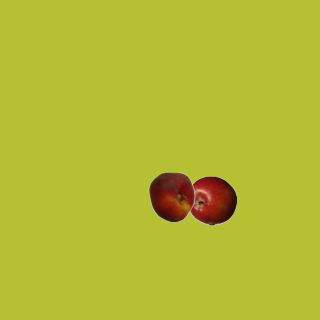Apple Braeburn: (186, 175, 236, 225)
Nectarine Flat: (146, 171, 196, 221)
